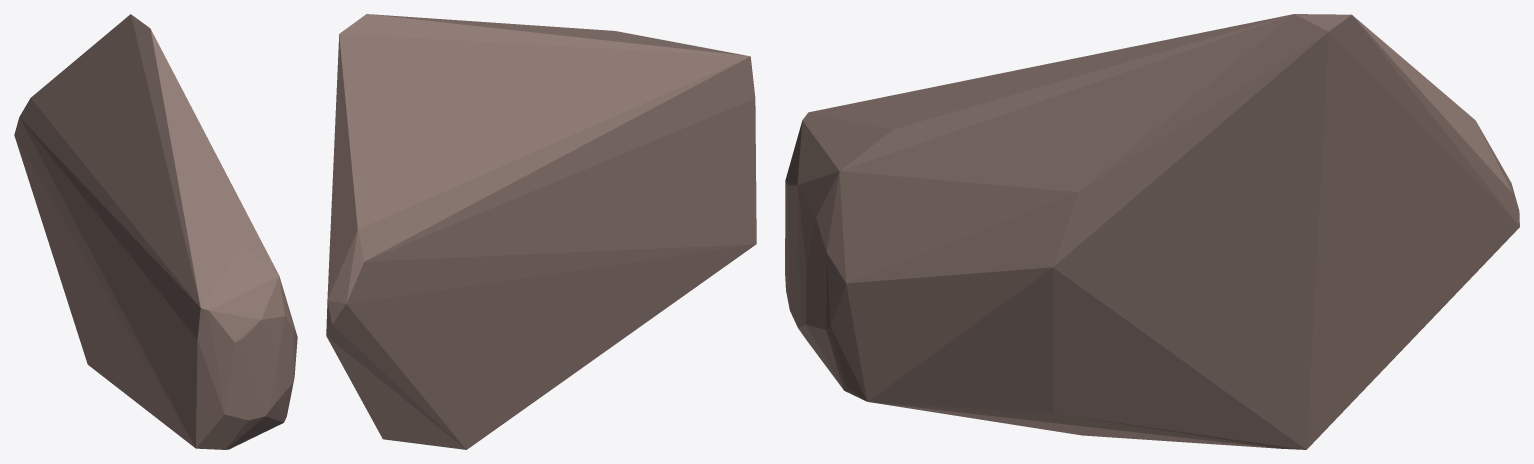
File: testingTool_wheel_balancing_machine_a01.glb
3 views of the same model, side by side, from view 1: azimuth 30°, elevation 25°; view 2: azimuth 150°, elevation 25°; view 3: azimuth 270°, elevation 25° (orthographic). The views are drawn at different scales.
Parts seen in each view (by area): view 1: geometry_0; view 2: geometry_0; view 3: geometry_0.
Part boxes in pixels (x1=…): geometry_0: x1=14, y1=14, x2=297, y2=449; geometry_0: x1=326, y1=14, x2=756, y2=449; geometry_0: x1=785, y1=14, x2=1519, y2=449.
Bounding box in the file's own units: 0.1539 × 0.3279 × 0.4762.
